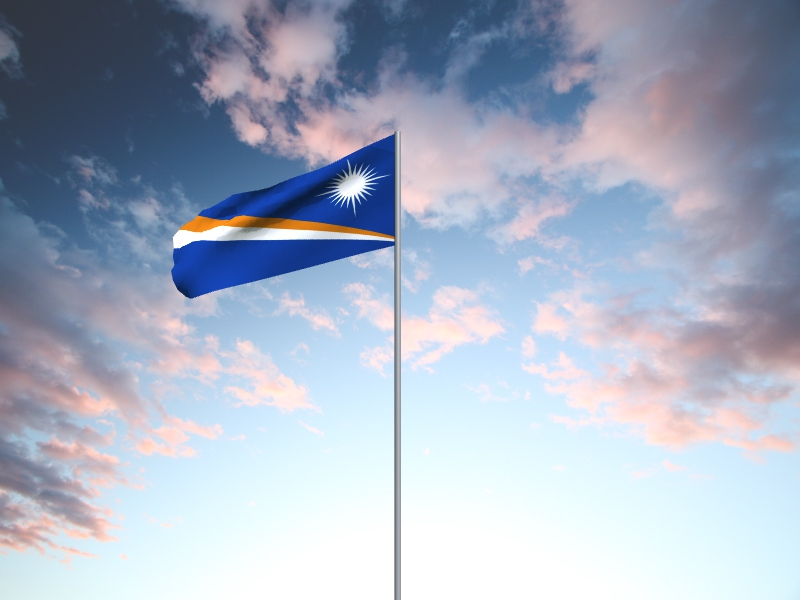mh: (171, 135, 395, 301)
